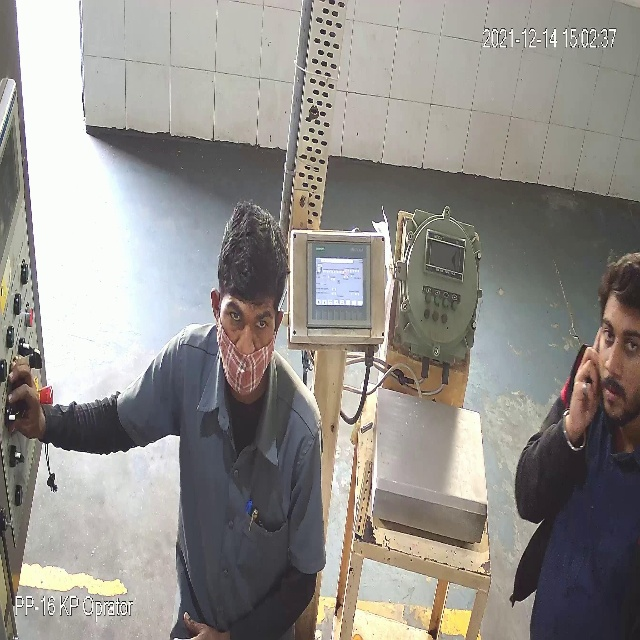Sin_gafas: (225, 306, 278, 343), (600, 320, 640, 359)
Sin_mascara: (596, 354, 638, 420)
